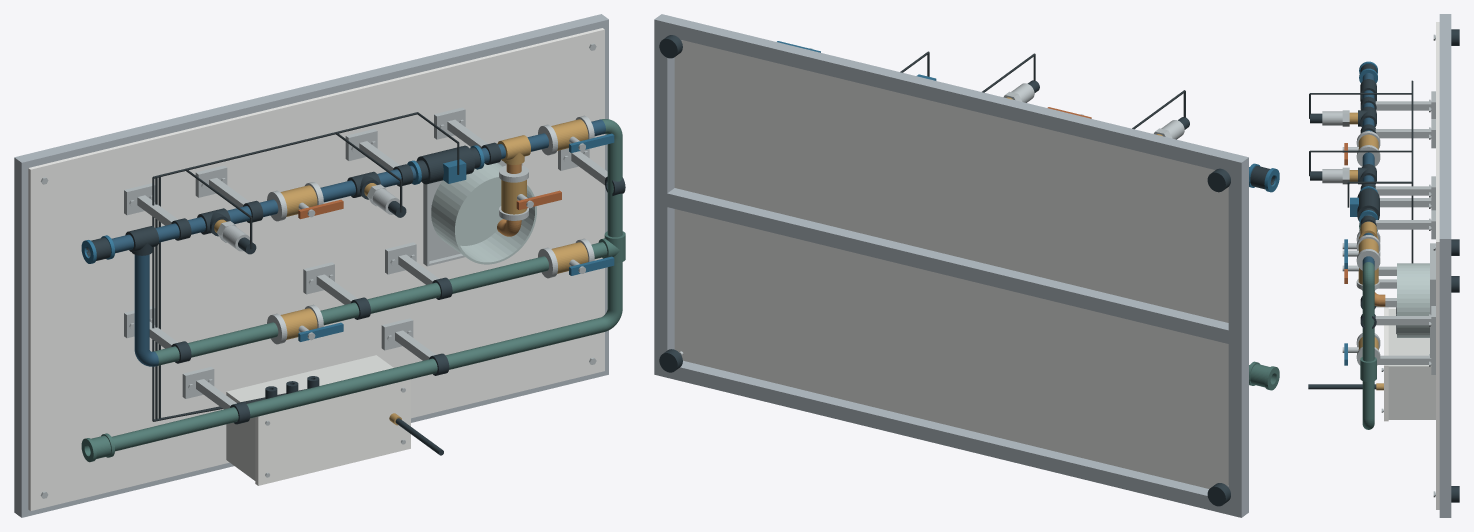
Rendered from bench_layout.obj.
3 views of the same model, side by side, from view 1: azimuth 30°, elevation 25°; view 2: azimuth 150°, elevation 25°; view 3: azimuth 270°, elevation 25° (orthographic). The views are drawn at different scales.
Parts seen in each view (by area): view 1: removable_deck, electronics_lid, rail_rear, return_out, open_measuring_vessel, rail_left, electronics_shell, B_to_Bload, rail_front, B_to_switch, B_vertical, removable_catch_tray (+11 smaller); view 2: removable_deck, rail_rear, rail_front, crossbeam, rail_left, rail_right; view 3: electronics_shell, rail_right, rail_rear, open_measuring_vessel, removable_deck, return_upper, support_9_post, support_3_post, removable_catch_tray, support_0_post, support_2_post, support_1_post (+21 smaller).
Boxes of the visible parts, box(x1,y1,x2,y2) form: removable_deck: box(28, 28, 604, 511); electronics_lid: box(255, 379, 410, 485); rail_rear: box(14, 14, 608, 176); return_out: box(112, 317, 605, 451); open_measuring_vessel: box(431, 163, 536, 264); rail_left: box(14, 171, 28, 503); electronics_shell: box(226, 355, 393, 480); B_to_Bload: box(320, 256, 548, 325); rail_front: box(14, 361, 608, 517); B_to_switch: box(154, 322, 278, 365); B_vertical: box(134, 254, 149, 351); removable_catch_tray: box(423, 160, 522, 266); removable_deck: box(674, 40, 1228, 488); rail_rear: box(654, 14, 1248, 176); rail_front: box(654, 360, 1248, 517); crossbeam: box(667, 188, 1228, 343); rail_left: box(1228, 171, 1248, 504); rail_right: box(654, 33, 674, 361); electronics_shell: box(1388, 308, 1435, 419); rail_right: box(1439, 249, 1451, 507); rail_rear: box(1439, 14, 1451, 249); open_measuring_vessel: box(1397, 263, 1429, 337); removable_deck: box(1436, 22, 1439, 509); return_upper: box(1362, 283, 1374, 361); support_9_post: box(1375, 316, 1431, 325); support_3_post: box(1375, 220, 1431, 229); removable_catch_tray: box(1430, 243, 1435, 357); support_0_post: box(1375, 101, 1431, 110); support_2_post: box(1375, 186, 1431, 195); support_1_post: box(1375, 129, 1431, 138).
Size of the model in its own units: 900 by 520 by 256.
